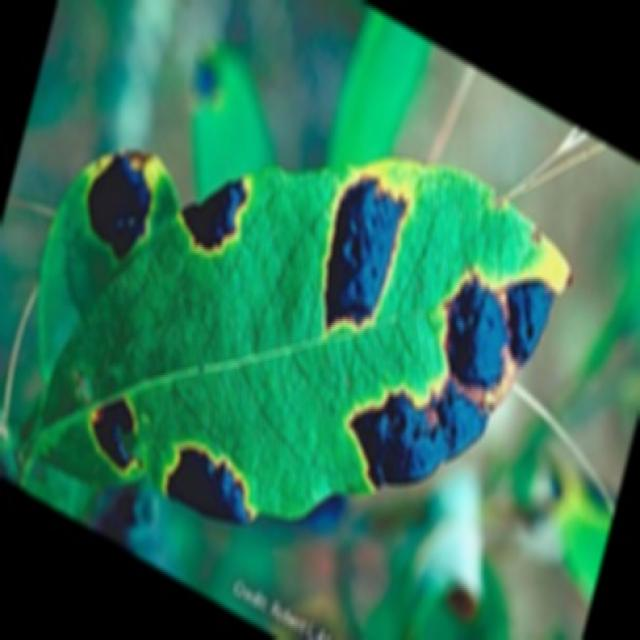Tar_Spot: (73, 115, 571, 518)
